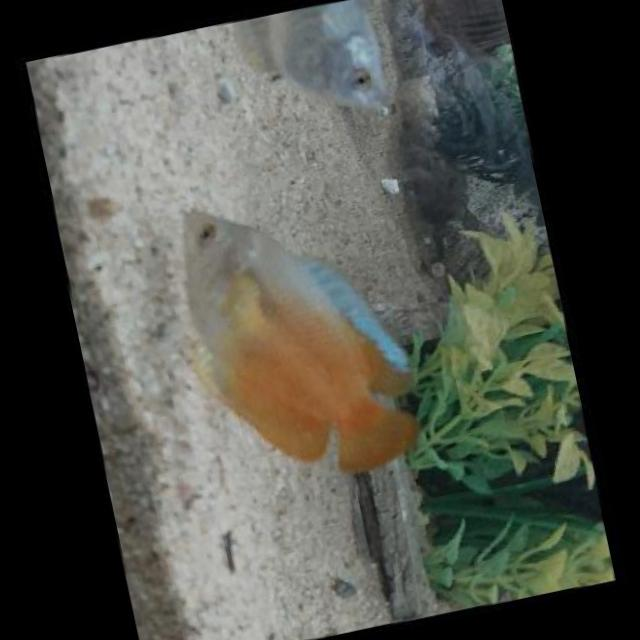Gourami: (162, 160, 436, 507)
